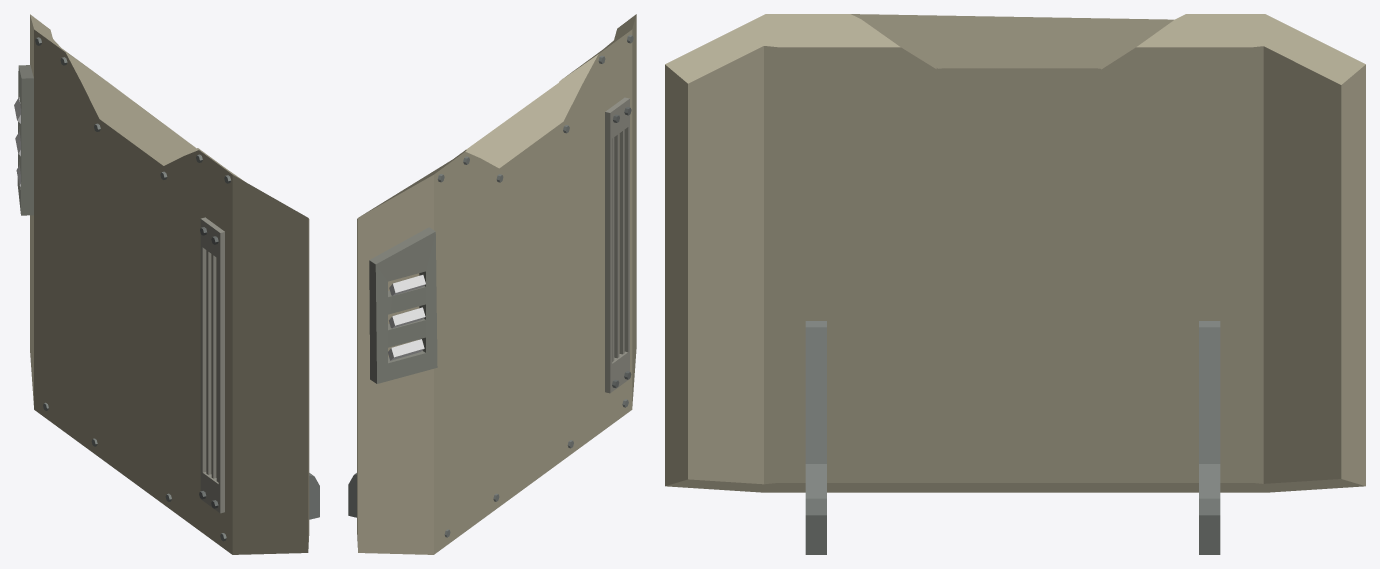
File: barricade.fbx
3 views of the same model, side by side, from view 1: azimuth 30°, elevation 25°; view 2: azimuth 150°, elevation 25°; view 3: azimuth 270°, elevation 25° (orthographic). The views are drawn at different scales.
Visible parts, largest first — view 1: Cube; view 2: Cube; view 3: Cube.
Part boxes in pixels (x1,y1,x2,y2): Cube: [14, 14, 319, 554]; Cube: [348, 14, 636, 554]; Cube: [665, 14, 1365, 554].
Size of the model in its own units: 53.88 by 175 by 233.
